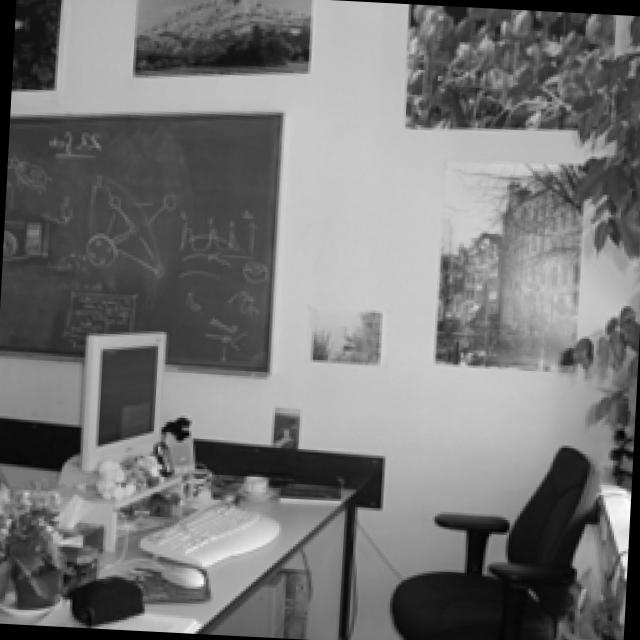blackboard: (0, 105, 286, 375)
book case: (280, 482, 347, 504)
box contants: (76, 575, 146, 624)
cabinet door: (600, 479, 632, 626)
chair -occluded-: (389, 441, 608, 640)
computer crop: (224, 568, 292, 631)
cup and saucer: (182, 467, 218, 504), (241, 474, 276, 499)
desk calendar: (0, 473, 359, 637)
keyboard crop: (140, 503, 282, 565)
kleenex: (62, 490, 113, 558)
monitor crop: (85, 327, 172, 471)
mouse: (129, 561, 216, 597)
mouse pad: (159, 565, 209, 587)
notebook: (106, 611, 207, 629)
plant -x: (563, 269, 640, 484), (574, 16, 640, 261), (0, 484, 71, 615), (577, 553, 628, 640)
poster crop: (435, 161, 589, 371), (405, 7, 621, 129), (138, 0, 317, 75), (14, 0, 66, 89), (311, 305, 386, 361), (271, 405, 305, 447)
speaker: (166, 426, 200, 470)
toys: (99, 453, 170, 500)
